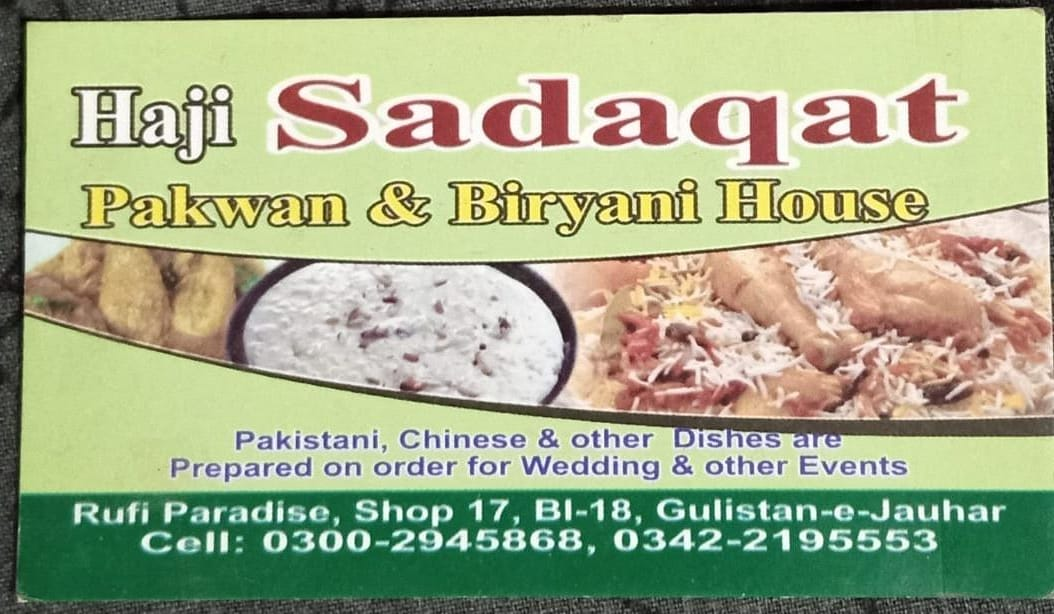alphabetical: (263, 57, 975, 171), (63, 166, 356, 233), (65, 69, 252, 169)
numerical: (602, 526, 948, 558), (258, 524, 586, 557)
